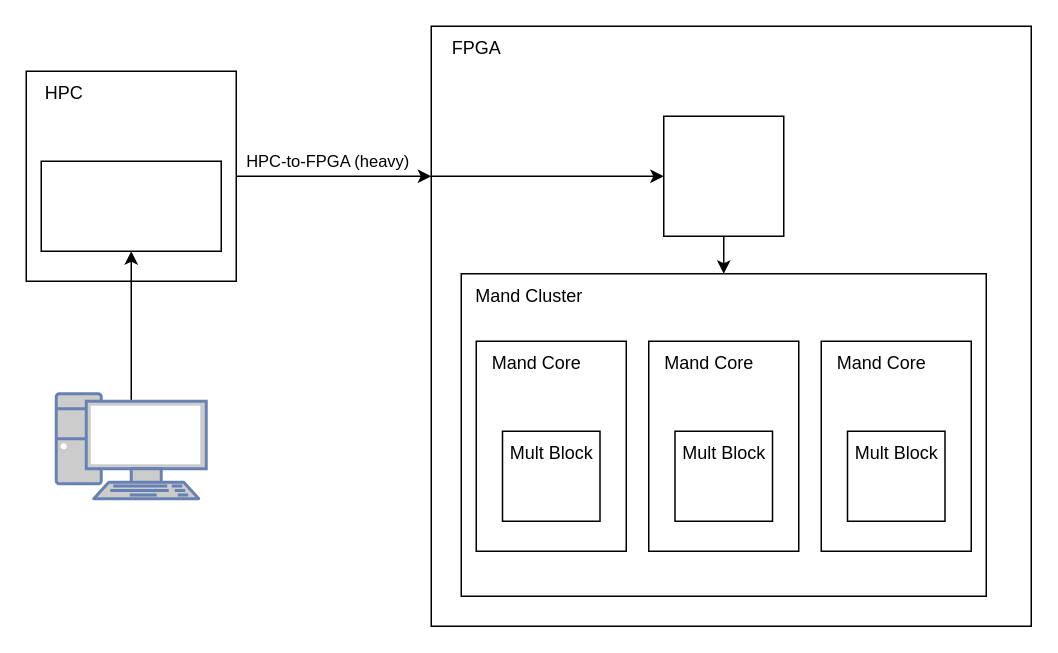
Image size: 1058x653. Some labels were removed from this diagram. Here are the shapes that lost their labels. From the top down, the box of each, then its label:
(662, 115, 784, 236): Avalon-MM
(40, 160, 221, 251): HTTP-Server
